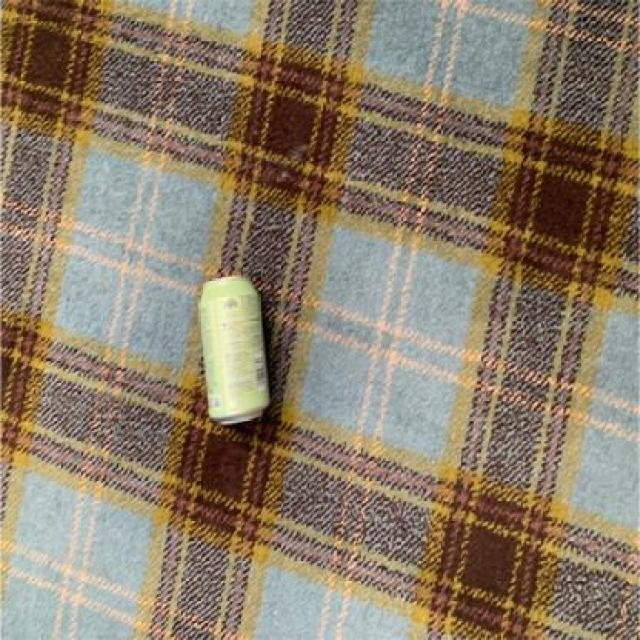Metal: (198, 274, 272, 426)
